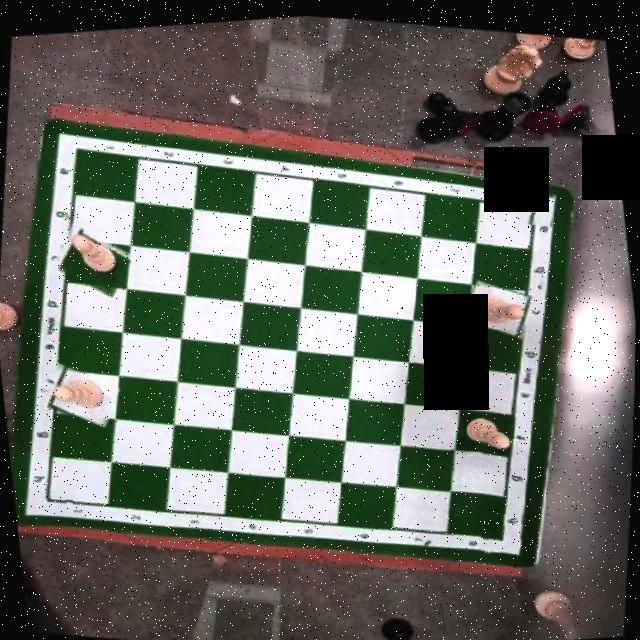chess-table-corners: (476, 504, 528, 551), (510, 182, 556, 225), (28, 478, 73, 517), (54, 128, 94, 170)
